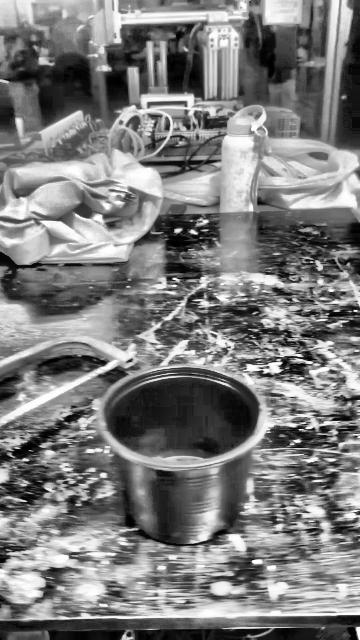pot: (101, 367, 261, 544)
